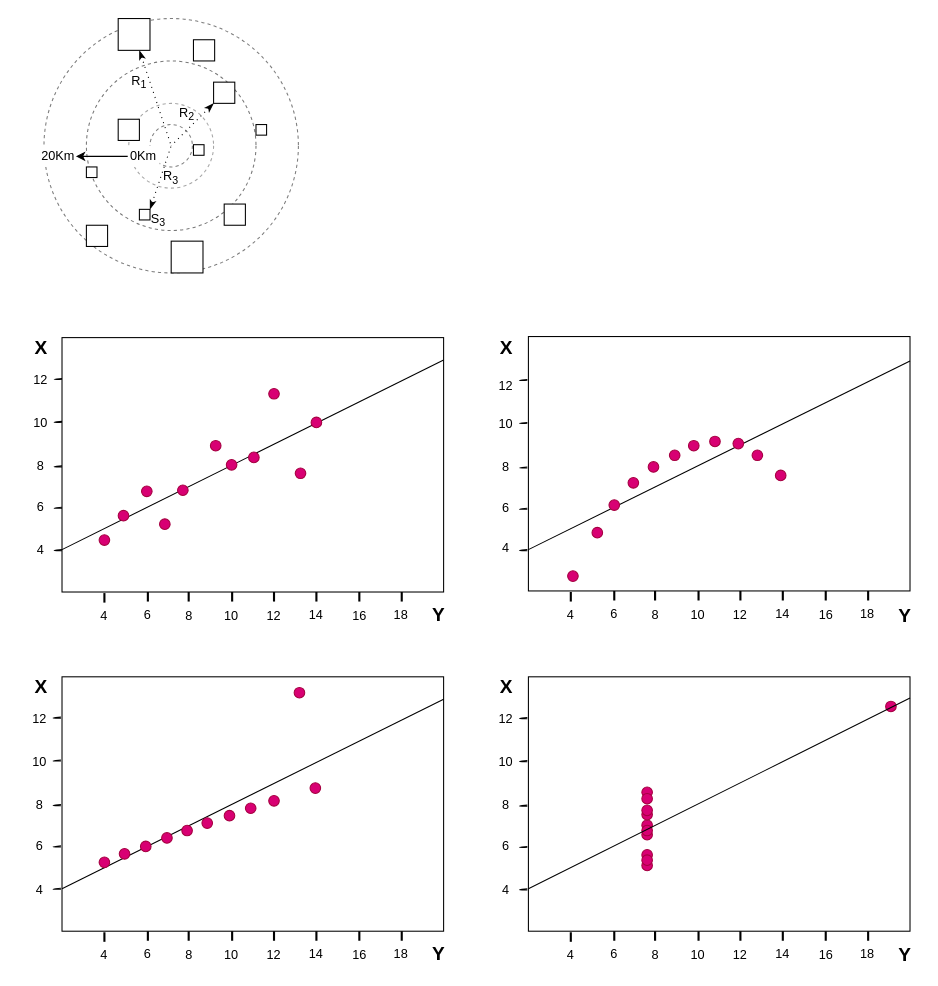
The diagram is 938 pixels wide and 986 high, and some of its shapes have lost their labels. The shapes that lost their labels are listed below. From the top down, each one's box as (x1, y1, x2, y2) in pixels, then its label:
(117, 17, 150, 50): S 1
(213, 81, 235, 103): S 2
